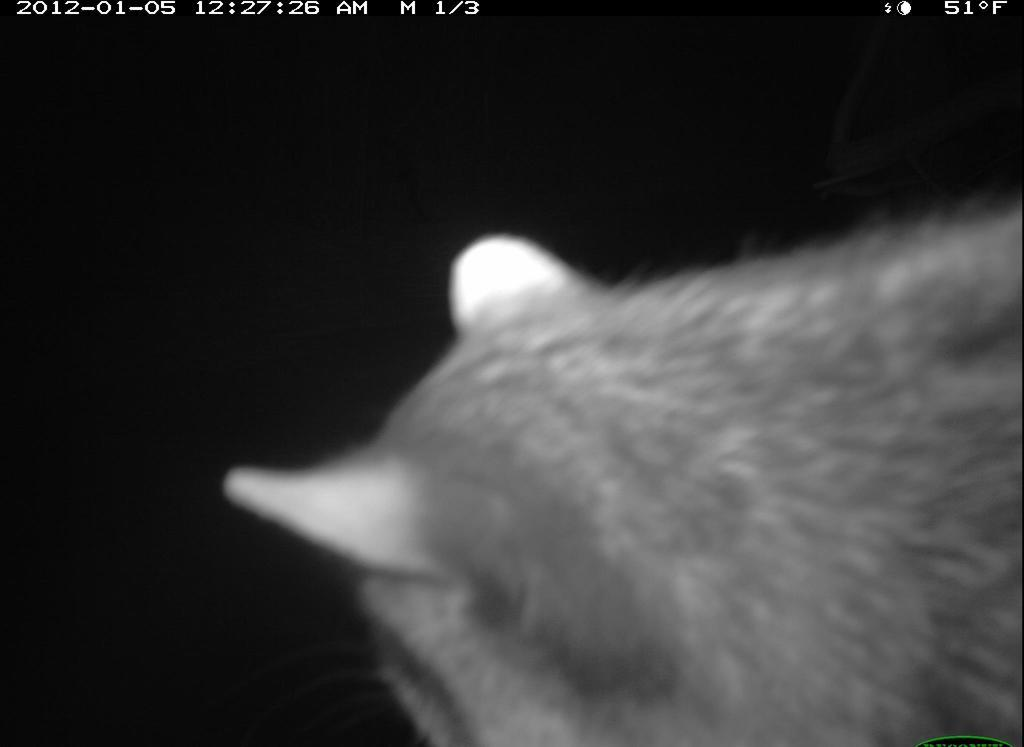raccoon: (214, 194, 1014, 742)
